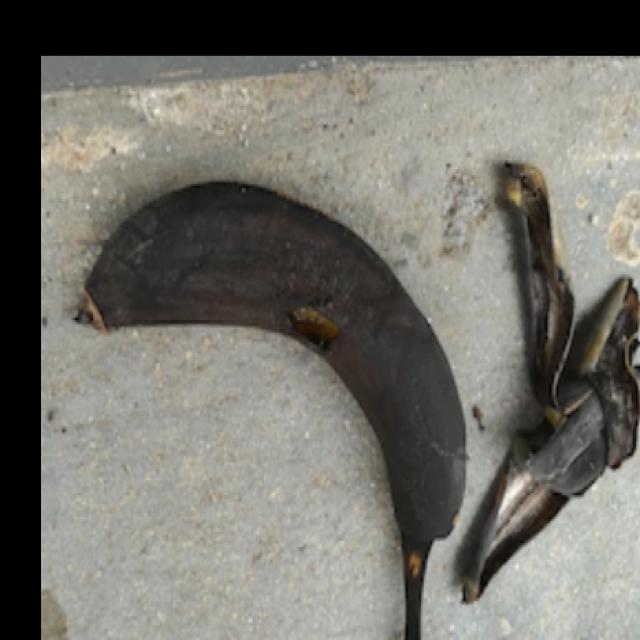Rotten: (59, 132, 492, 640)
